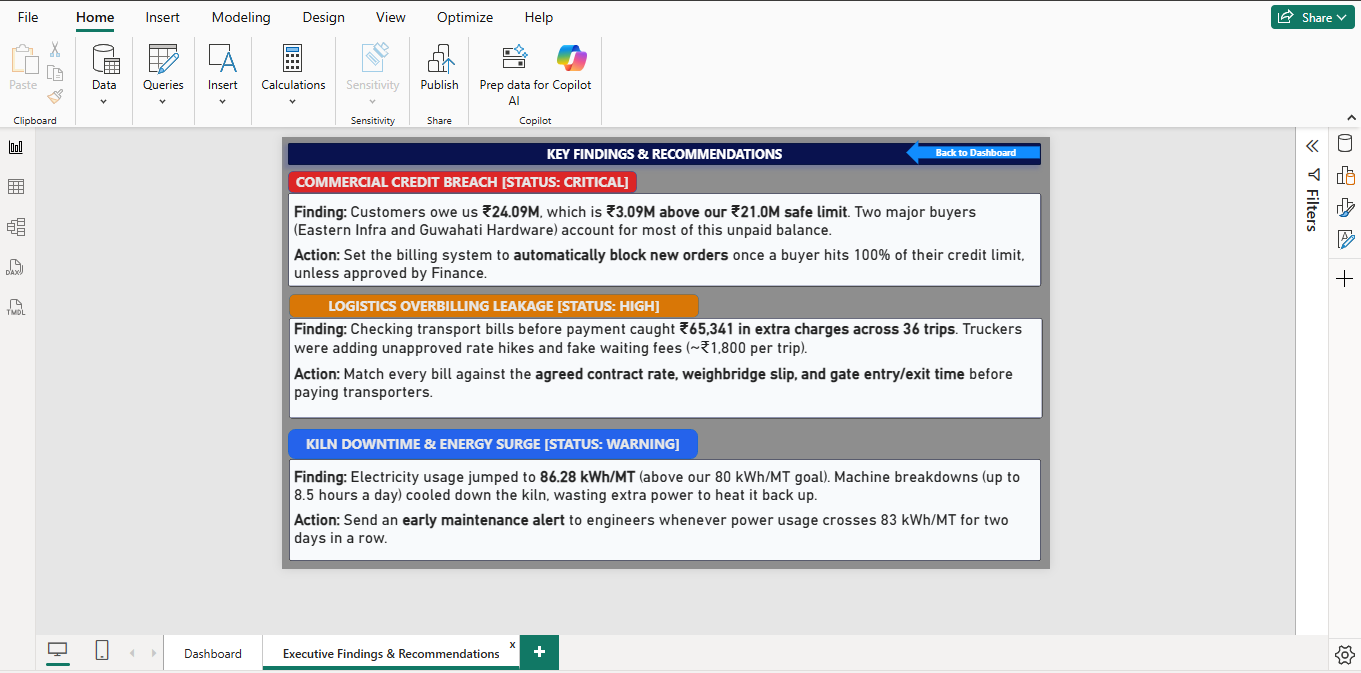

The dashboard page shown, as its layout file describes it:
{"tool":"powerbi","page":{"name":"Executive Findings & Recommendations","canvas":[1920,1080],"ordinal":1},"visuals":[{"type":"shape","box":[15,15,1882.5,55],"z":1000},{"type":"shape","box":[15,140,1882.5,234],"z":2000},{"type":"textbox","box":[30,160,1835,215],"z":3000},{"type":"shape","box":[15,85,872.5,55],"z":4000},{"type":"shape","box":[17.5,392.5,1025,59],"z":5000},{"type":"shape","box":[17.5,452.5,1884,251],"z":6000},{"type":"textbox","box":[30,452.5,1835,250],"z":7000},{"type":"shape","box":[15,730,1025,75],"z":8000},{"type":"shape","box":[17.5,805,1880,255],"z":9000},{"type":"textbox","box":[30,827.5,1835,232.5],"z":10000},{"type":"shape","box":[1560,7.5,335,62],"z":10001}]}

Visuals, with their boxes on the page's 1920x1080 design canvas (x1, y1, x2, y2). These are canvas units, not pixel positions in the 1361x673 screenshot, which may show the page scaled, cropped or inside an application window:
shape: 15/15/1898/70
shape: 15/140/1898/374
textbox: 30/160/1865/375
shape: 15/85/888/140
shape: 18/392/1042/452
shape: 18/452/1902/704
textbox: 30/452/1865/702
shape: 15/730/1040/805
shape: 18/805/1898/1060
textbox: 30/828/1865/1060
shape: 1560/8/1895/70
